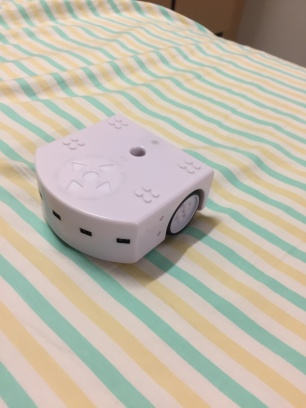thymio: (21, 103, 221, 271)
